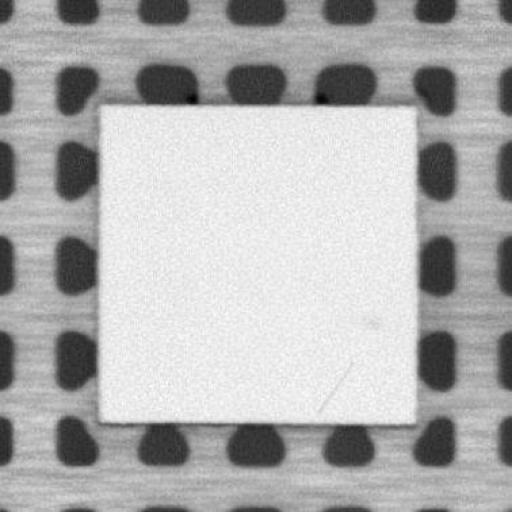DIE_CRACK: (315, 358, 355, 415)
